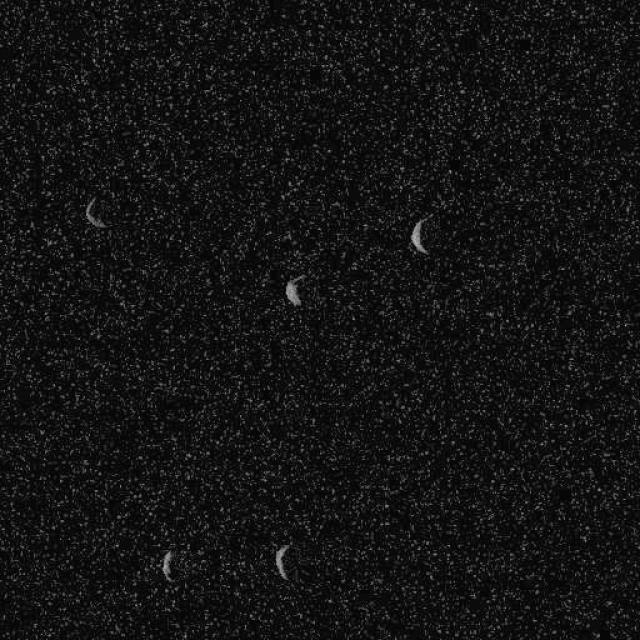D2: (0, 0, 639, 639), (82, 194, 110, 228), (409, 216, 430, 255), (284, 272, 306, 308), (272, 541, 292, 580), (160, 548, 175, 582)
